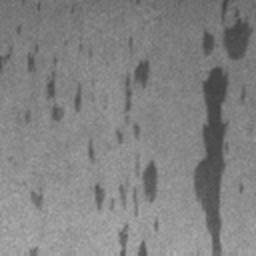Red iron sheet: (193, 0, 255, 256), (93, 154, 160, 256), (114, 58, 150, 145), (44, 78, 84, 123), (29, 189, 46, 211), (26, 51, 36, 73), (87, 137, 96, 161), (0, 54, 12, 70), (28, 246, 38, 256)
